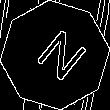N_SW: (24, 23, 86, 87)
